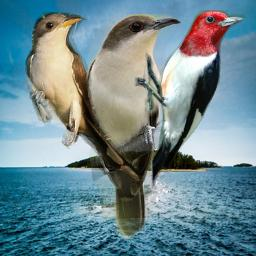Cuckoo: (86, 14, 182, 240), (25, 12, 145, 185)
Woodpecker: (133, 10, 247, 191)
